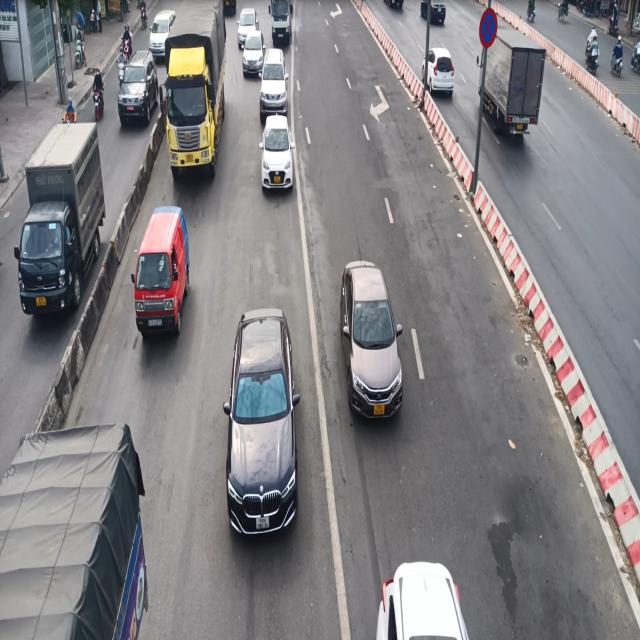car: (230, 308, 308, 542), (340, 262, 404, 432), (132, 204, 194, 348), (116, 46, 158, 132), (258, 112, 293, 204), (260, 43, 291, 115)
truck: (18, 116, 110, 341), (160, 0, 227, 180)
